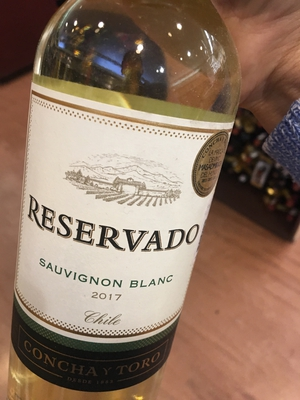reservado sauvignon blanc: (15, 6, 227, 400)
